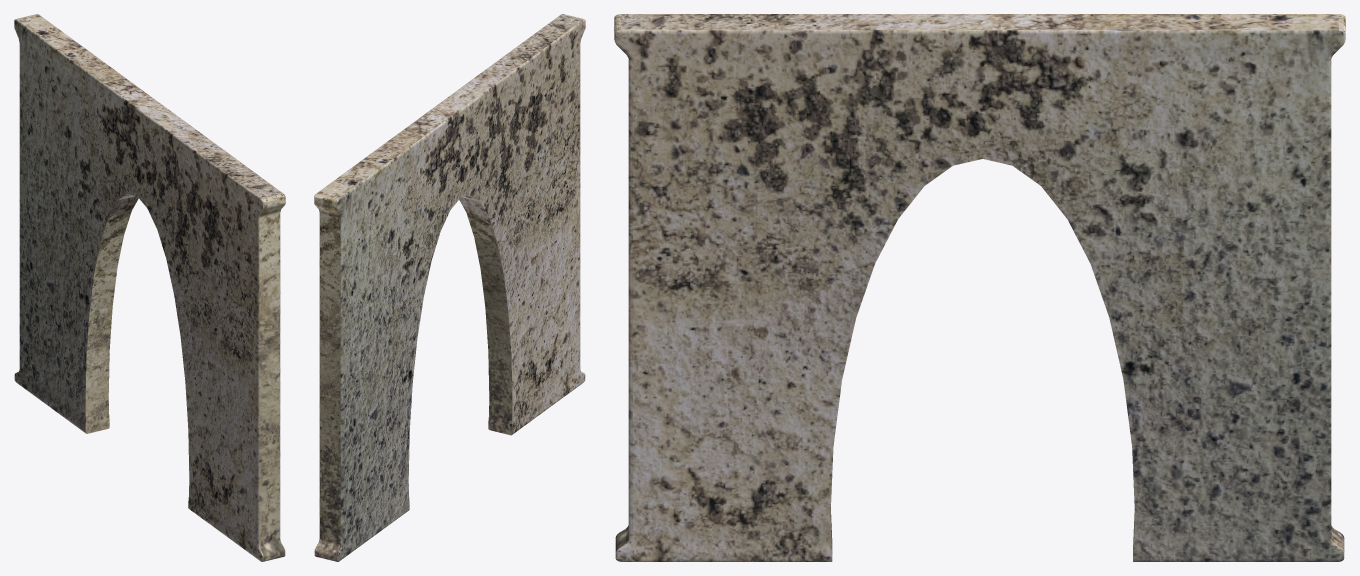
The model's file is Wall_Door 1.fbx.
3 renders of one model, left to right at view 1: azimuth 30°, elevation 25°; view 2: azimuth 150°, elevation 25°; view 3: azimuth 270°, elevation 25°, orthographic. The views are drawn at different scales.
Visible parts, largest first — view 1: Wall_With_Open_Door; view 2: Wall_With_Open_Door; view 3: Wall_With_Open_Door.
Boxes of the visible parts, x1,y1,x2,y2 form: Wall_With_Open_Door: (14,14,285,561); Wall_With_Open_Door: (314,14,585,561); Wall_With_Open_Door: (614,14,1345,561).
Bounding box in the file's own units: 102 × 1456 × 1813.
1 material, 1 textured.
